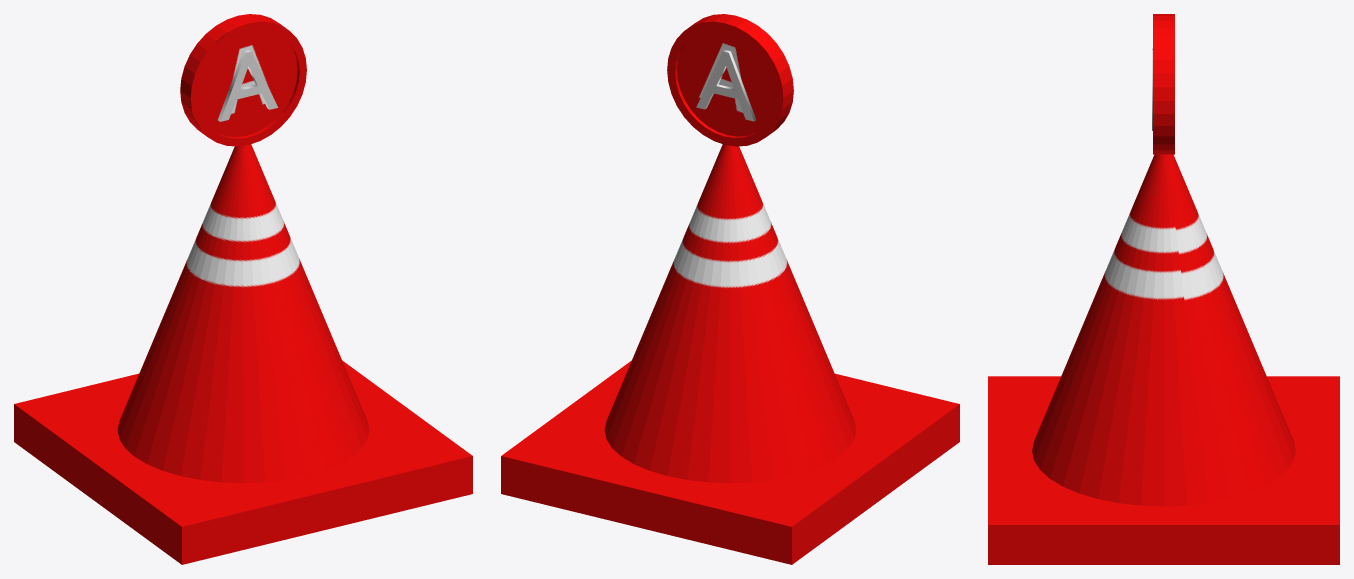
File: cone_with_coin3.dae
3 renders of one model, left to right at view 1: azimuth 30°, elevation 25°; view 2: azimuth 150°, elevation 25°; view 3: azimuth 270°, elevation 25°, orthographic. The views are drawn at different scales.
Visible parts, largest first — view 1: Sankaku_Cone, Cylinder, A; view 2: Sankaku_Cone, Cylinder, A; view 3: Sankaku_Cone, Cylinder.
Part boxes in pixels (x1,y1,x2,y2): Sankaku_Cone: (14,144,472,564); Cylinder: (180,14,306,146); A: (218,50,278,121); Sankaku_Cone: (501,144,959,564); Cylinder: (667,14,793,146); A: (696,50,756,121); Sankaku_Cone: (988,154,1339,564); Cylinder: (1153,14,1174,154).
Size of the model in its own units: 0.4 by 0.4 by 0.5896.
Materials: 2 (2 with a texture image).
